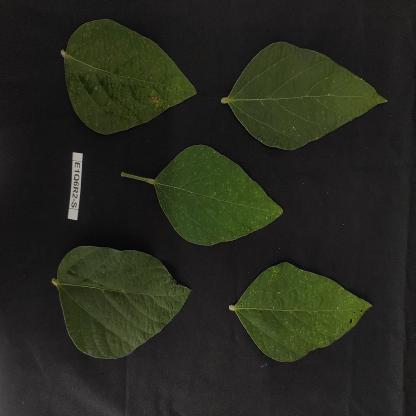label: (69, 151, 93, 215)
leaflets: (228, 15, 408, 143), (116, 138, 310, 248), (32, 229, 189, 364), (53, 1, 202, 143), (229, 254, 374, 373)
